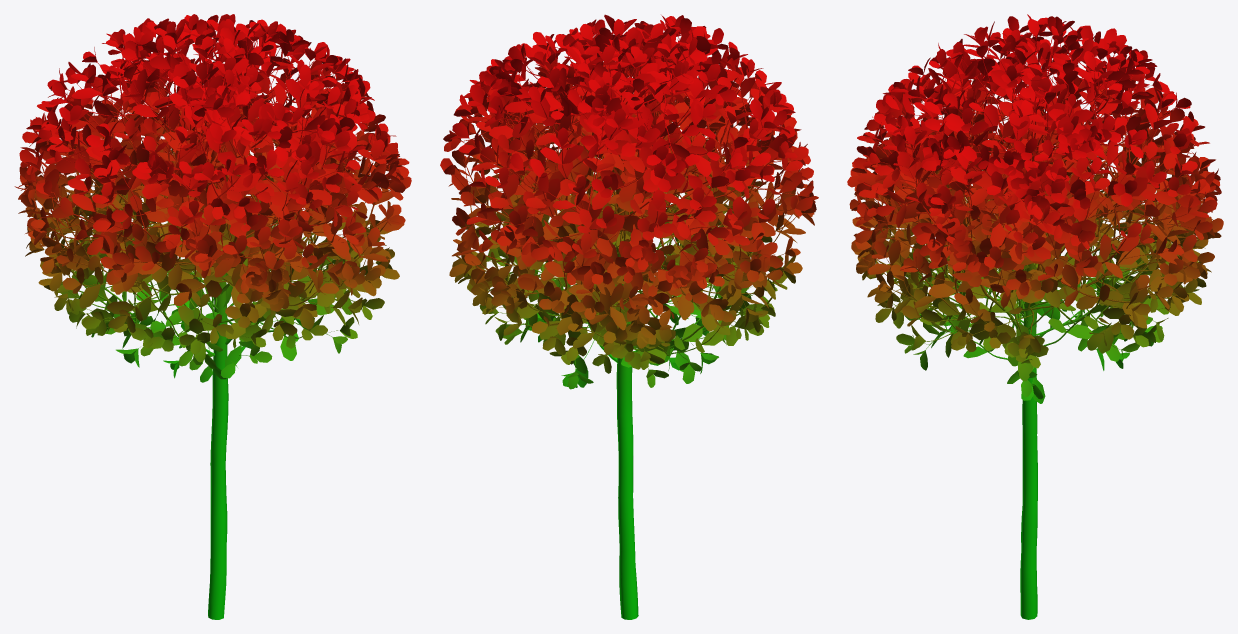
File: Var7_LOD1.fbx
The picture shows the model from 3 angles, left to right: view 1: azimuth 30°, elevation 25°; view 2: azimuth 150°, elevation 25°; view 3: azimuth 270°, elevation 25°; orthographic projection. The views are drawn at different scales.
Visible parts, largest first — view 1: _3550_Var7_LOD1; view 2: _3550_Var7_LOD1; view 3: _3550_Var7_LOD1.
Part boxes in pixels (box(x1,y1,x2,y2)): _3550_Var7_LOD1: box(14, 14, 411, 619); _3550_Var7_LOD1: box(440, 14, 818, 619); _3550_Var7_LOD1: box(847, 14, 1223, 619).
Size of the model in its own units: 46.72 by 77.76 by 45.93.
